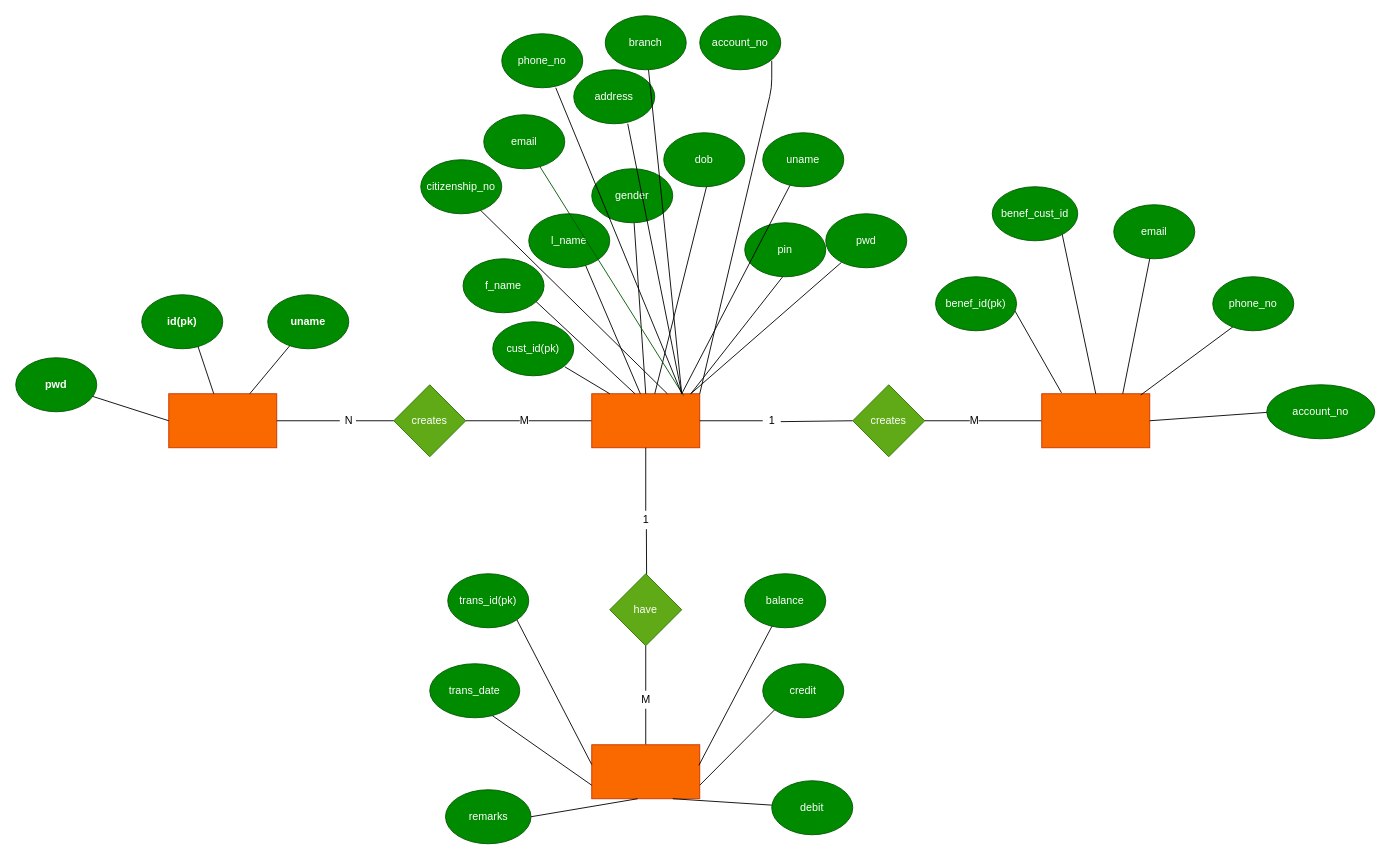
Some shapes in this 1391 by 860 pixel diagram are drawn without their labels. Each missing label, with the centre of its shape:
admin: the point at 222,420
beneficiary: the point at 1095,420
customer: the point at 645,420
passbook: the point at 645,771
